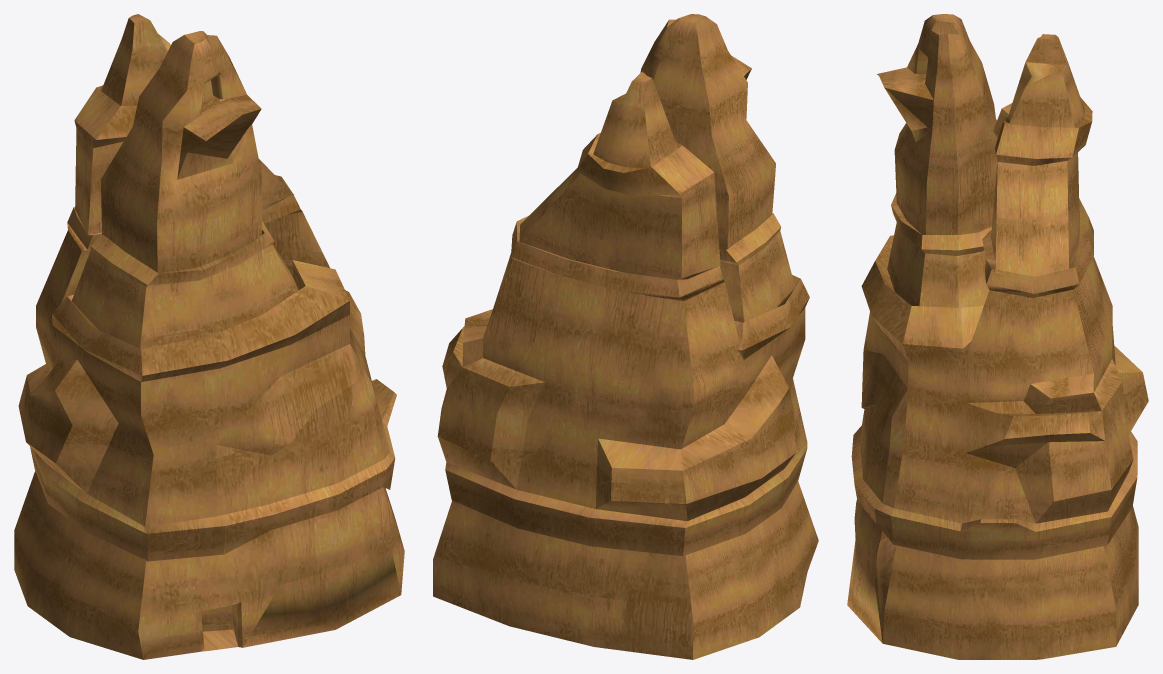
File: Khoone5.fbx
3 renders of one model, left to right at view 1: azimuth 30°, elevation 25°; view 2: azimuth 150°, elevation 25°; view 3: azimuth 270°, elevation 25°, orthographic. The views are drawn at different scales.
Visible parts, largest first — view 1: pCube1; view 2: pCube1; view 3: pCube1.
Part boxes in pixels (bbox=[...]): pCube1: bbox=[14, 14, 404, 659]; pCube1: bbox=[433, 14, 818, 659]; pCube1: bbox=[847, 14, 1148, 659].
Bounding box in the file's own units: 16.13 × 25.91 × 12.93.
